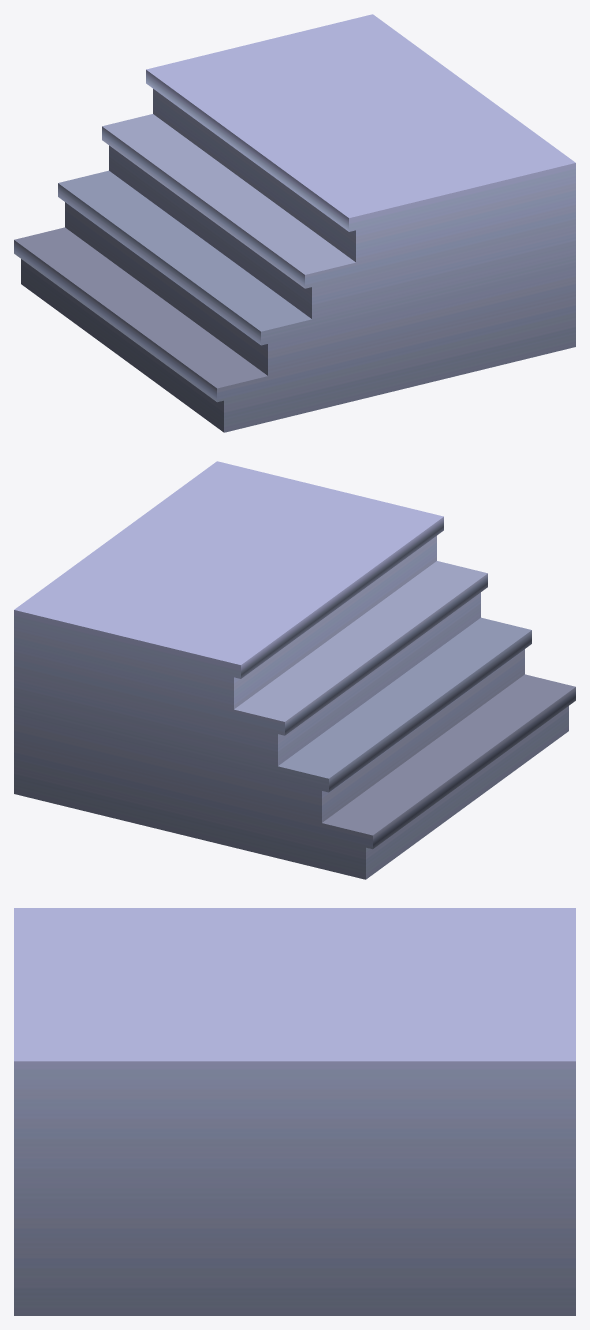
Rendered from stairs-full.glb.
3 views of the same model, one above another, from view 1: azimuth 30°, elevation 25°; view 2: azimuth 150°, elevation 25°; view 3: azimuth 270°, elevation 25° (orthographic). The views are drawn at different scales.
Parts seen in each view (by area): view 1: stairs-full; view 2: stairs-full; view 3: stairs-full.
Boxes of the visible parts, bbox=[...] form: stairs-full: bbox=[14, 14, 575, 432]; stairs-full: bbox=[14, 461, 575, 879]; stairs-full: bbox=[14, 908, 575, 1315].
Size of the model in its own units: 1.02 by 0.5 by 1.
Materials: 1 (1 with a texture image).
